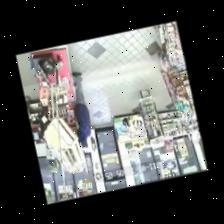person: (72, 72, 90, 147)
